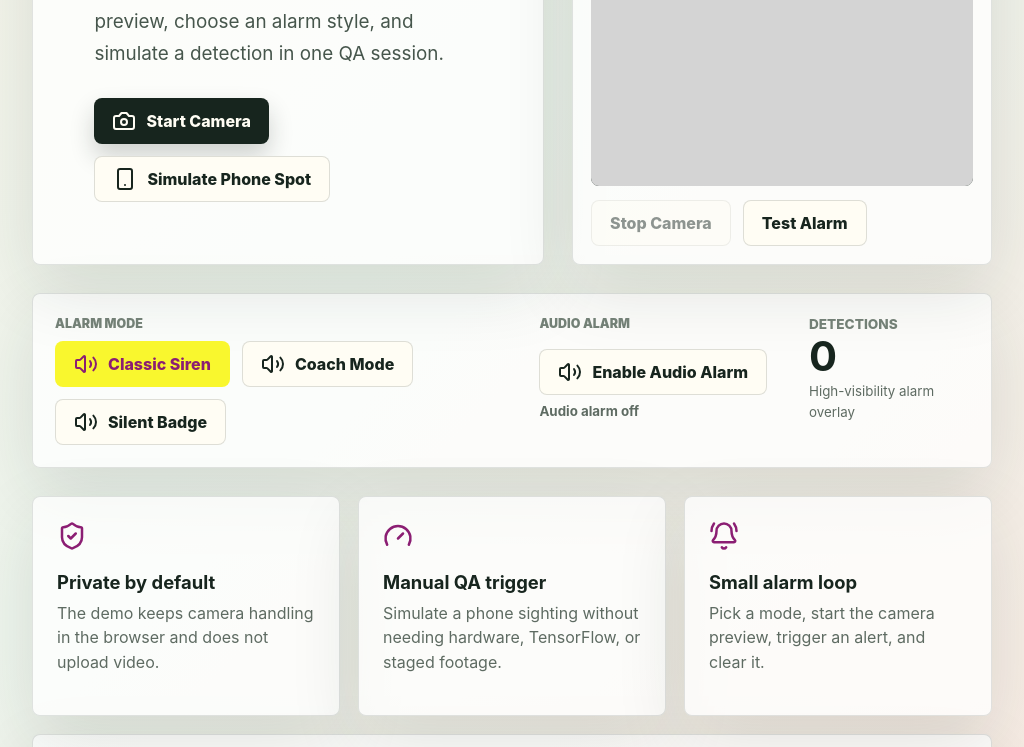
Test: Phone Lunk Alarm Lab › changes alarm copy when coach mode is selected
(page scrolled)
What coordinates should you click on to do the following:
click the button "Coach Mode"
I would click on:
 (328, 364)
Its box is [242,341,413,387].
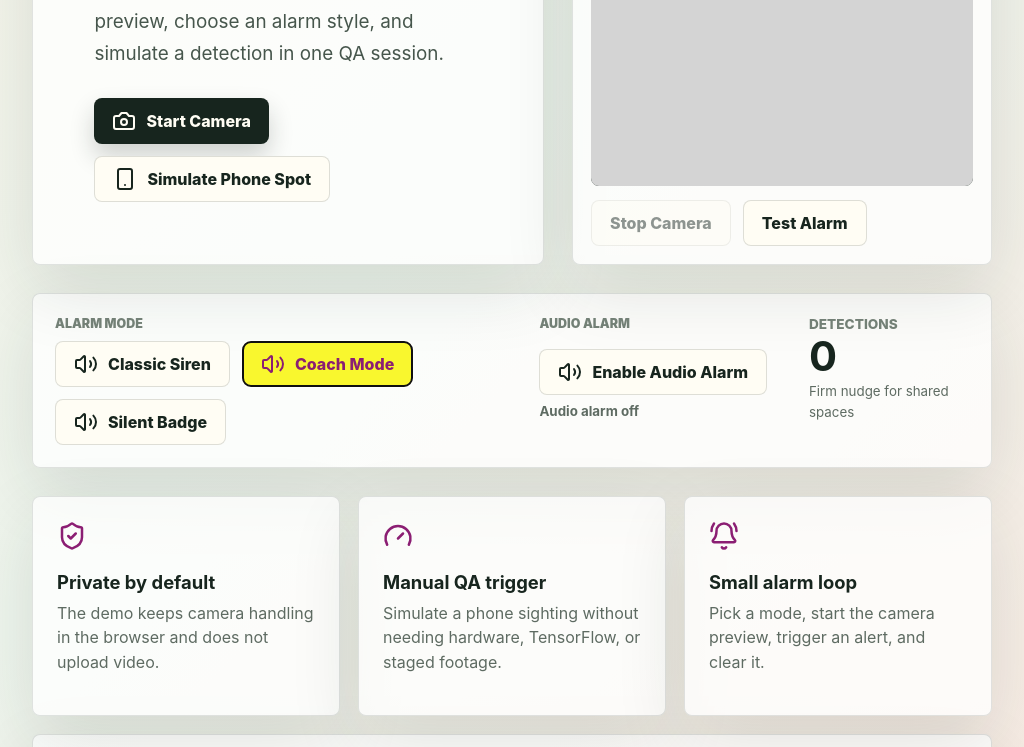
What coordinates should you click on to do the following:
click the button "Test Alarm"
I would click on:
 (805, 223)
Its box is [743,200,867,246].
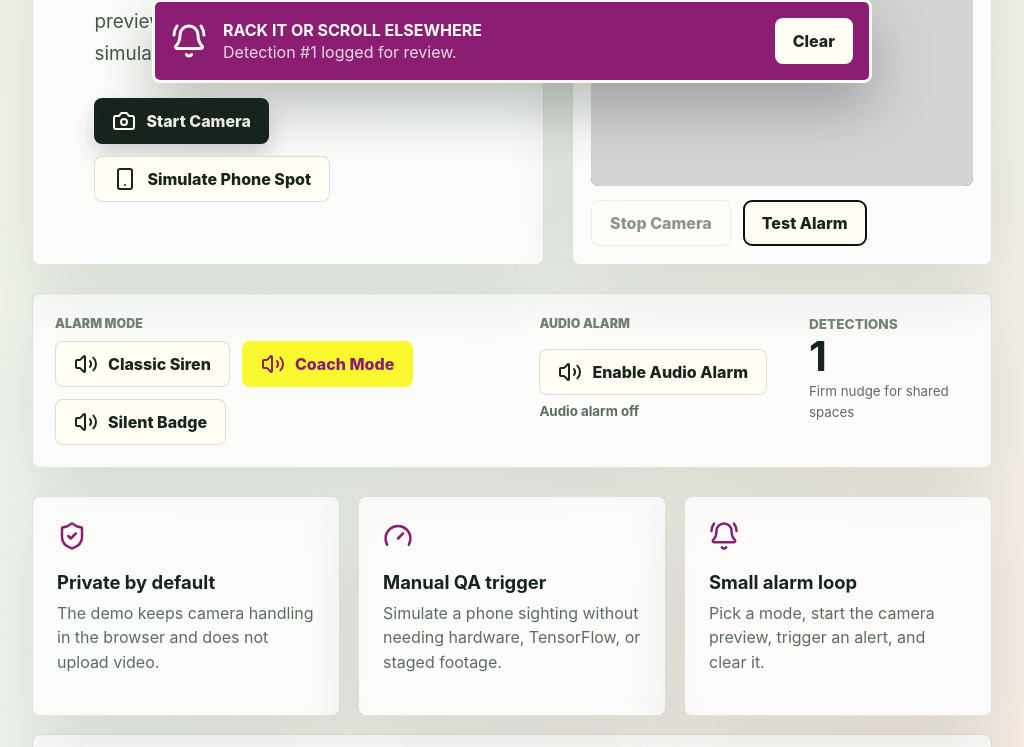
Expected: the message shows "RACK IT OR SCROLL ELSEWHERE", [223,20,482,40]
